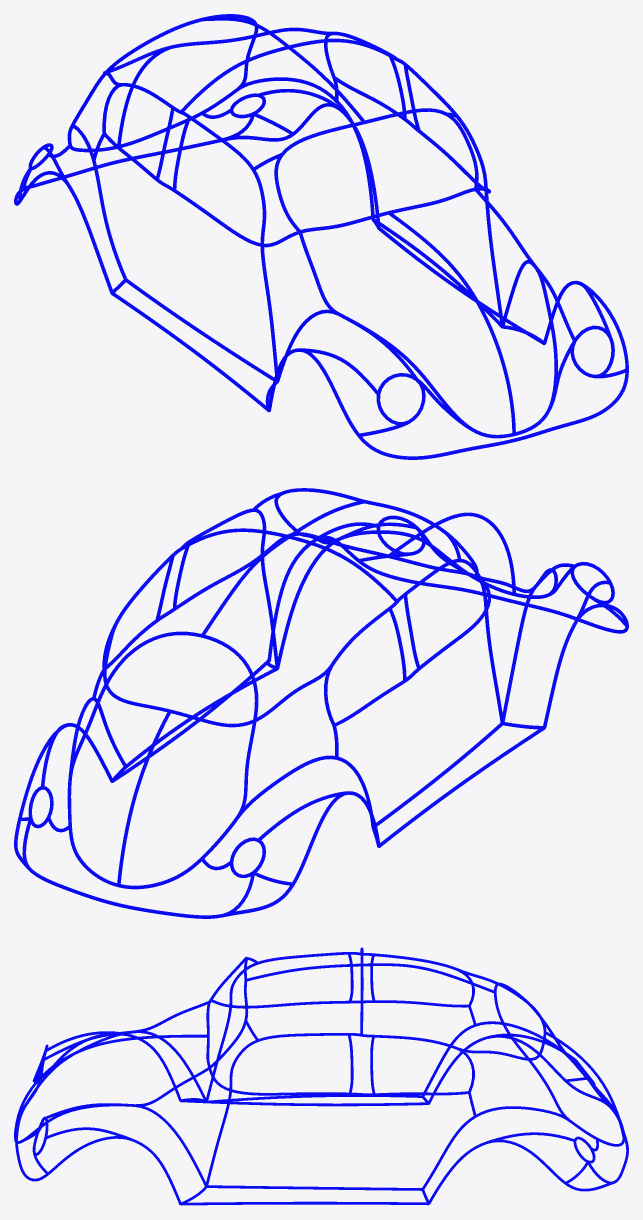
Rendered from flowsurf_beetle.glb.
The picture shows the model from 3 angles, top to bottom: view 1: azimuth 30°, elevation 25°; view 2: azimuth 150°, elevation 25°; view 3: azimuth 270°, elevation 25°; orthographic projection. The views are drawn at different scales.
Visible parts, largest first — view 1: flowsurf_beetle; view 2: flowsurf_beetle; view 3: flowsurf_beetle.
Part boxes in pixels (x1,y1,x2,y2): flowsurf_beetle: (14,14,628,459); flowsurf_beetle: (14,488,628,918); flowsurf_beetle: (14,947,628,1205).
Size of the model in its own units: 0.3636 by 0.3053 by 0.887.
